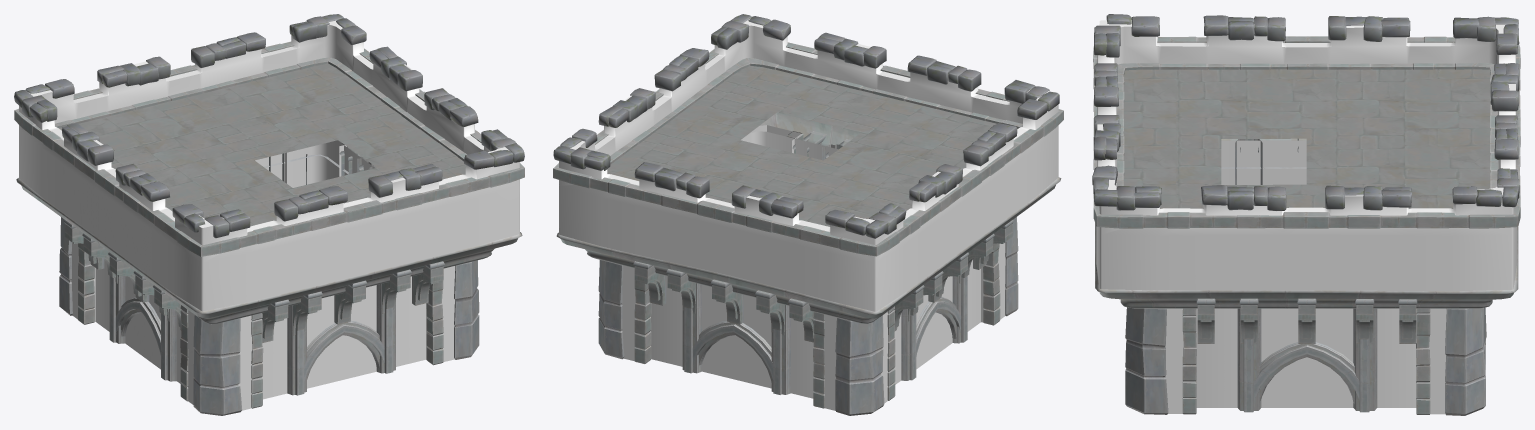
Rendered from SM_TowerF_Top_01.fbx.
The picture shows the model from 3 angles, left to right: view 1: azimuth 30°, elevation 25°; view 2: azimuth 150°, elevation 25°; view 3: azimuth 270°, elevation 25°; orthographic projection. The views are drawn at different scales.
Parts seen in each view (by area): view 1: SM_TowerF_Top_01_LOD0; view 2: SM_TowerF_Top_01_LOD0; view 3: SM_TowerF_Top_01_LOD0.
Part boxes in pixels (left/top/right/bottom): SM_TowerF_Top_01_LOD0: left=14, top=14, right=524, bottom=415; SM_TowerF_Top_01_LOD0: left=553, top=14, right=1063, bottom=415; SM_TowerF_Top_01_LOD0: left=1092, top=14, right=1520, bottom=415.
Size of what is drawn, in the model's own units: 13.32 by 8.1 by 13.31.
